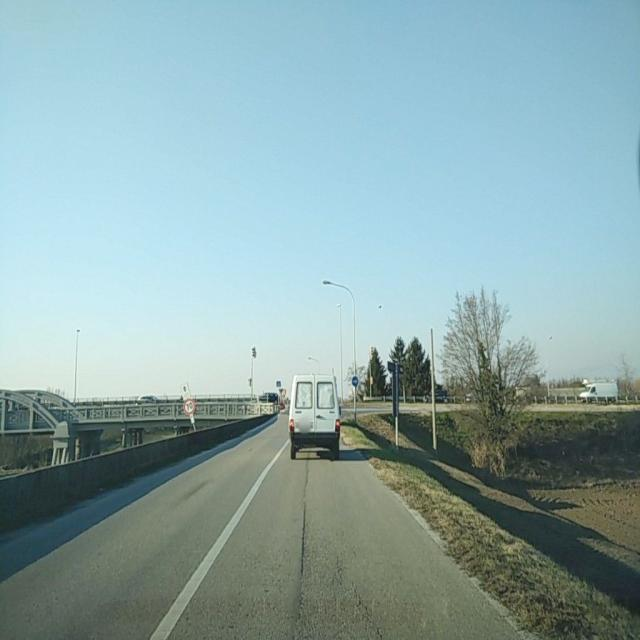car: (288, 372, 341, 461), (577, 382, 619, 404)
